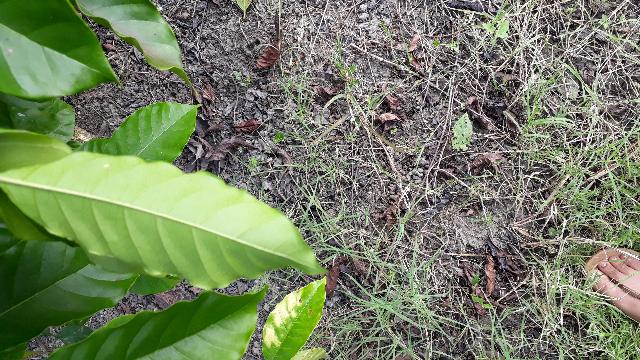healthy: (0, 147, 336, 295)
